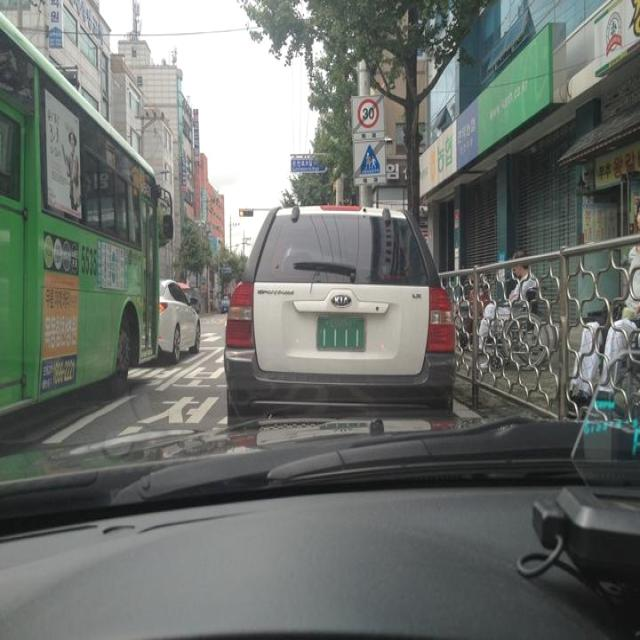car: (224, 201, 456, 432)
illegal_plate: (316, 314, 372, 357)
